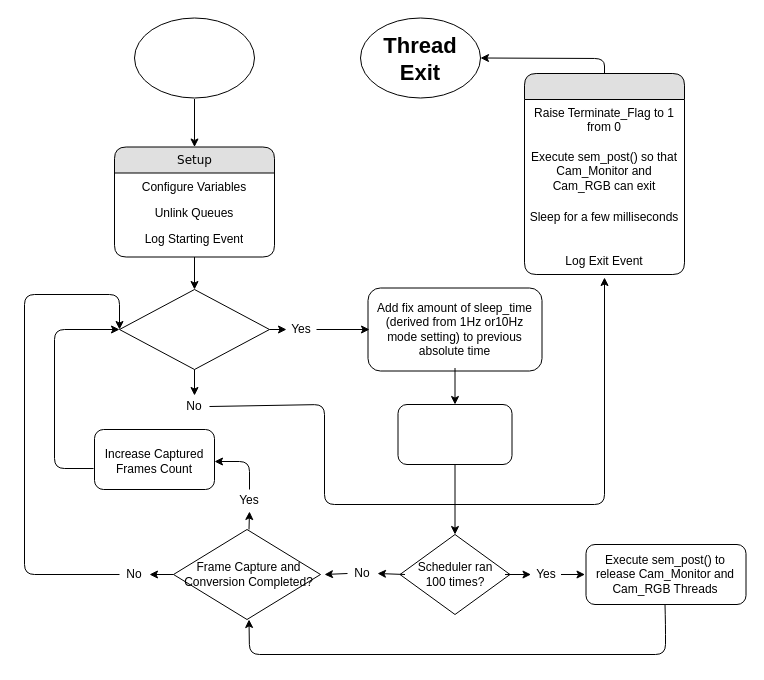
Image size: 764x680. Some labels were removed from this diagram. The shapes that lost their labels are listed below. From the top down, each one's box as (x1, y1, x2, y2) in pixels, then its label:
(134, 17, 254, 98): Thread Created
(524, 72, 684, 274): Clean Exit
(118, 288, 270, 370): Captured Frames < Required Frames?
(397, 404, 512, 464): Execute clock_nanosleep()
